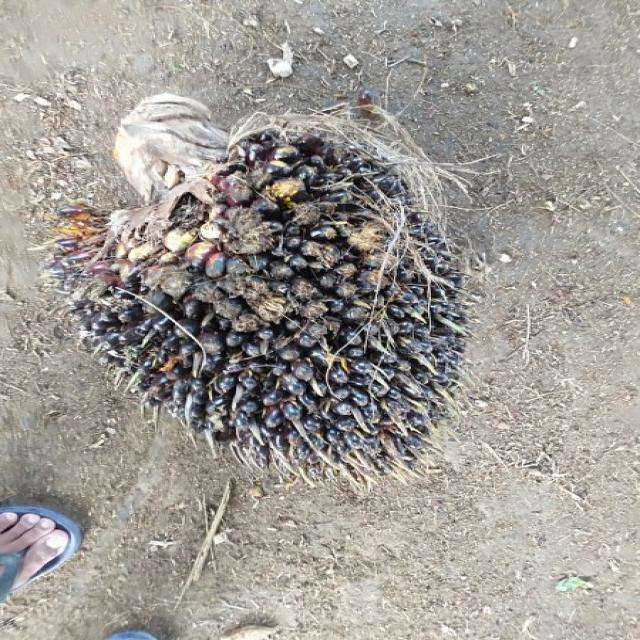fraksi 00: (48, 121, 478, 480)
